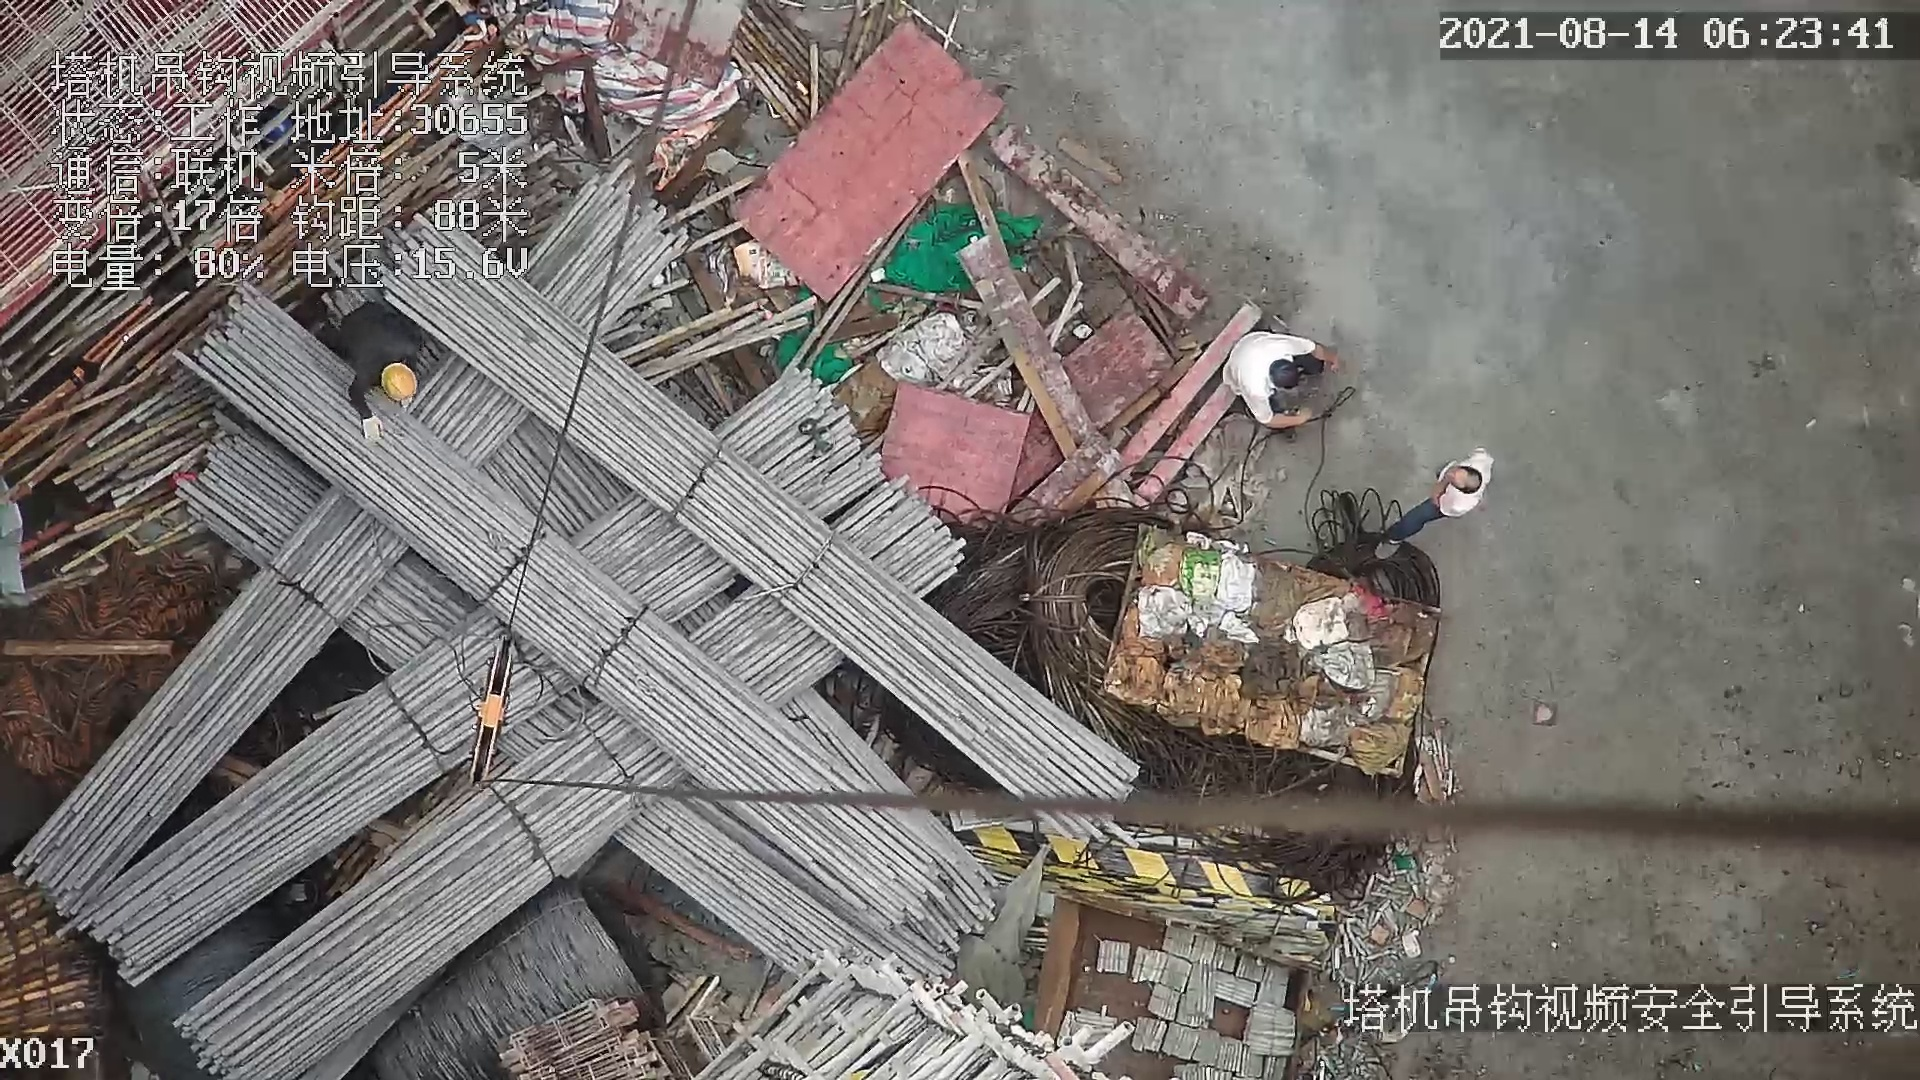helmet: (382, 362, 419, 404)
hook: (470, 619, 514, 792)
person: (335, 300, 427, 453), (1383, 437, 1495, 556), (1223, 322, 1346, 428)
rebar: (173, 288, 948, 935), (385, 287, 1140, 838), (178, 711, 683, 1080), (79, 623, 563, 980), (9, 487, 406, 920)
wood: (1, 873, 119, 1030)
